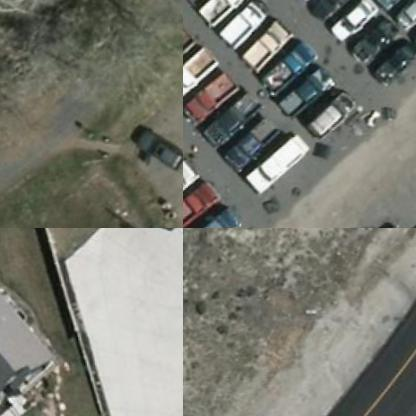car: (236, 139, 300, 200), (190, 93, 253, 154), (339, 16, 402, 77), (210, 121, 272, 182), (256, 37, 318, 98), (272, 66, 334, 127), (233, 18, 296, 78), (297, 92, 360, 152), (362, 36, 415, 98), (320, 0, 383, 52), (213, 0, 277, 51), (183, 74, 231, 136), (125, 132, 183, 180), (299, 0, 363, 33), (183, 175, 220, 227), (183, 48, 214, 110), (193, 0, 257, 30), (381, 0, 415, 45), (183, 201, 240, 227), (362, 0, 415, 26), (183, 154, 203, 217), (400, 6, 415, 68)
